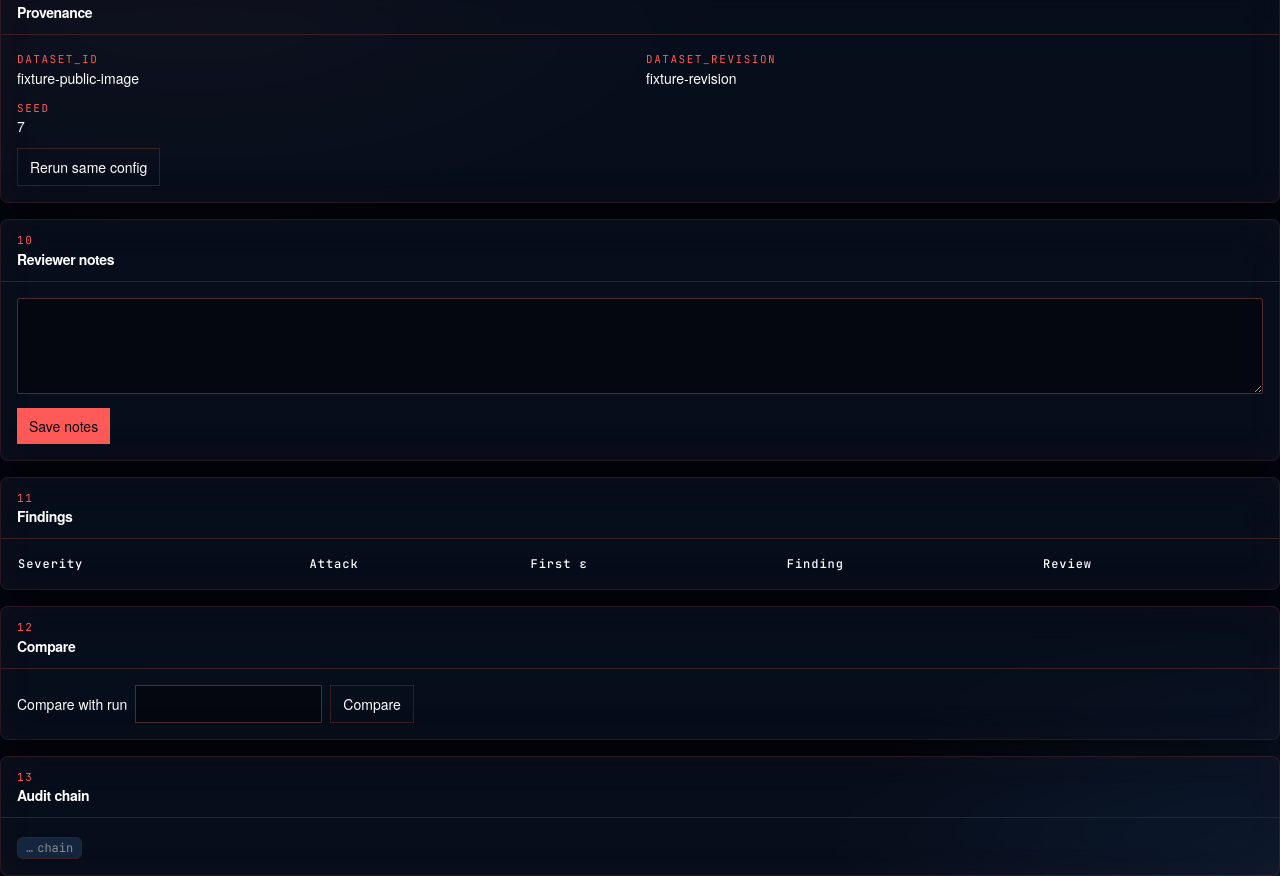
/runs/[id] campaign review › renders a side-by-side comparison with no delta
(page scrolled)
Type "prior-run" into the field labelled "Compare with run" at [229, 704], box x1=135 y1=685 x2=322 y2=723
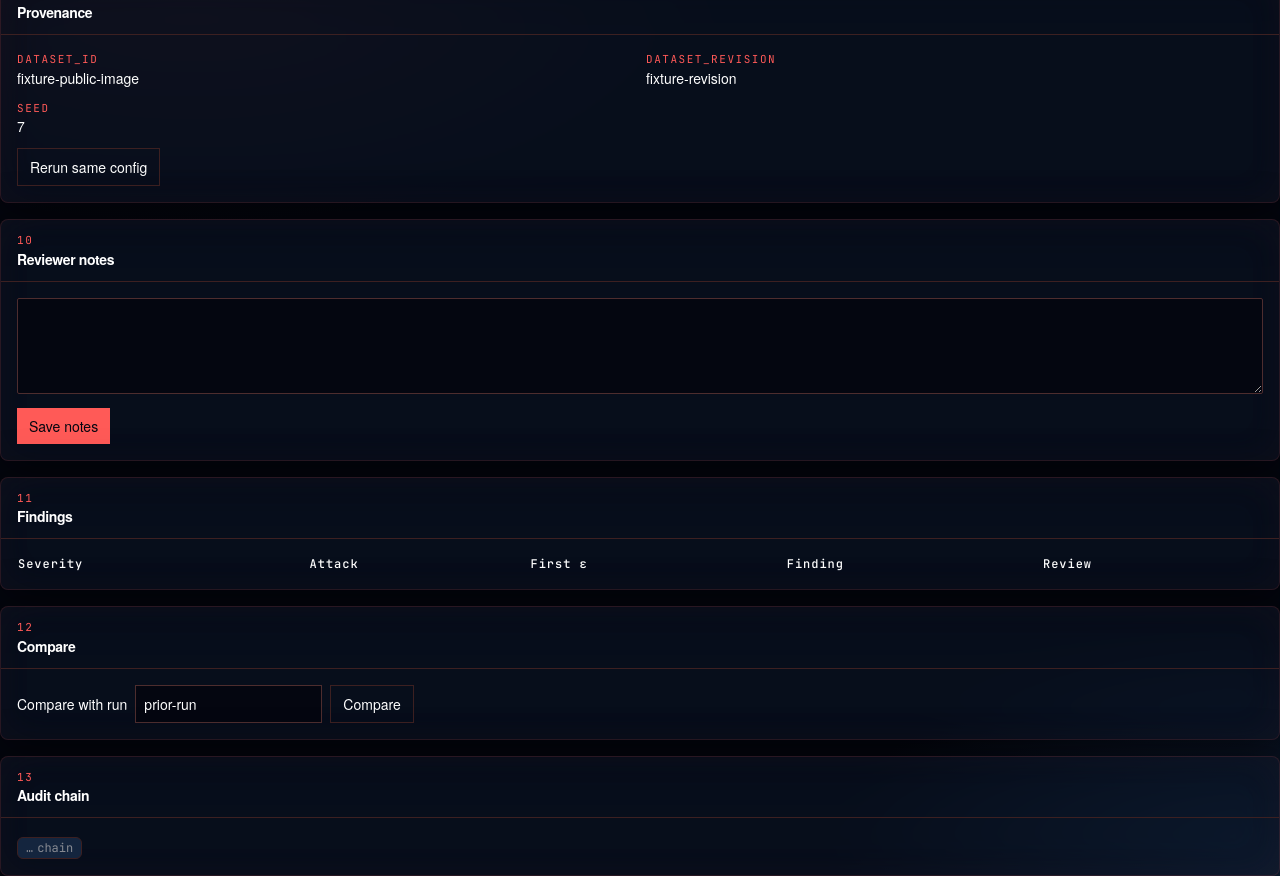
Click the button "Compare" at [372, 704], box x1=330 y1=685 x2=414 y2=723
(page scrolled)
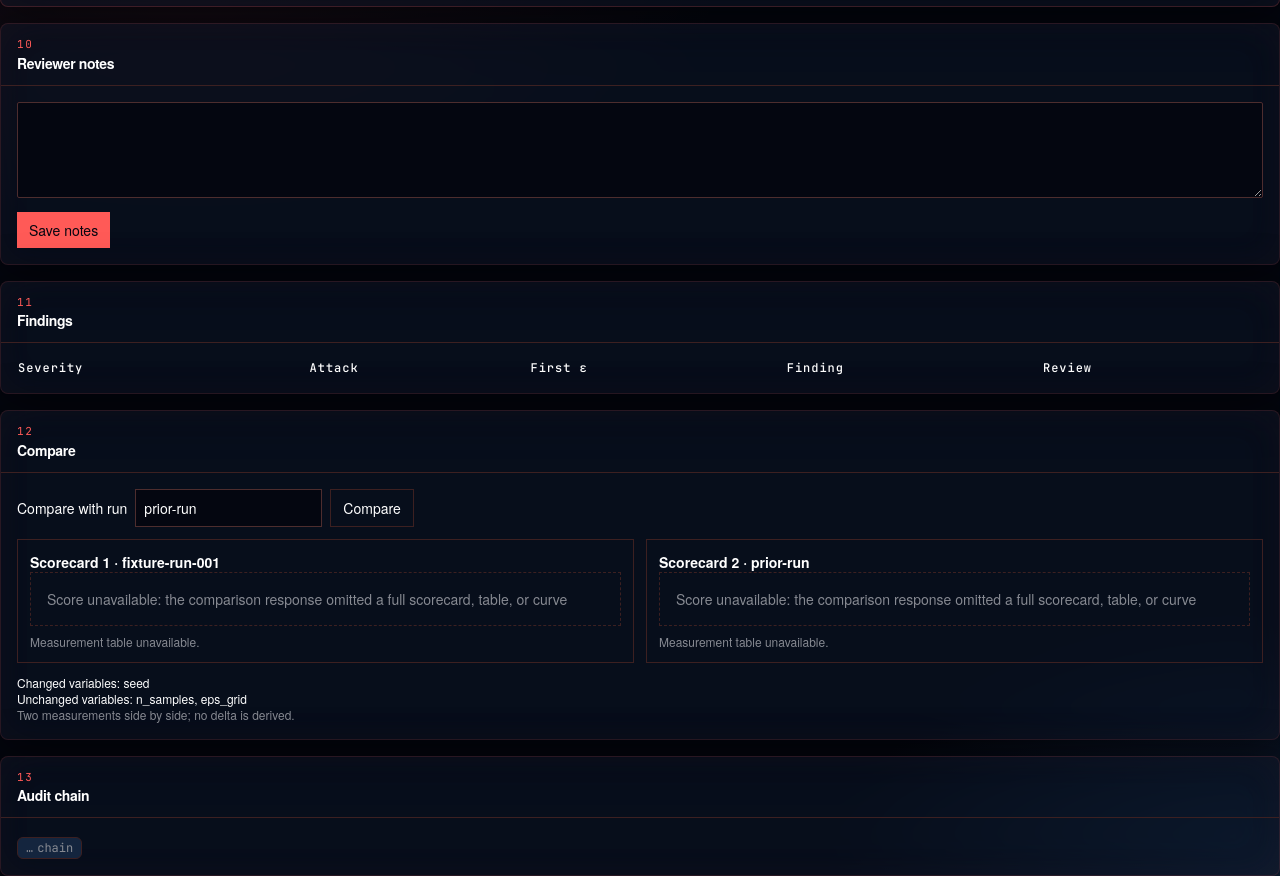
expect the text "Scorecard 1 · fixture-run-001" is shown: met, box x1=30 y1=552 x2=220 y2=572
expect the text "Scorecard 2 · prior-run" is shown: met, box x1=659 y1=552 x2=810 y2=572
expect the text "Changed variables: seed" is shown: met, box x1=17 y1=674 x2=150 y2=691
